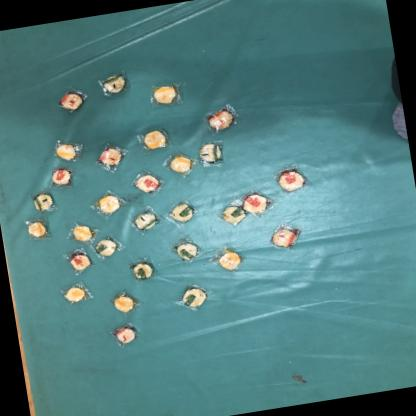green_setoshio: (168, 234, 204, 266), (97, 69, 133, 100), (176, 283, 212, 314), (127, 206, 164, 235), (166, 196, 198, 228), (212, 201, 247, 229), (126, 255, 158, 284), (88, 236, 123, 262), (198, 139, 226, 168), (28, 191, 56, 214)
red_setoshio: (202, 100, 244, 136), (264, 221, 304, 254), (272, 165, 310, 196), (240, 187, 277, 218), (93, 140, 127, 172), (61, 245, 93, 277), (130, 168, 164, 198), (54, 87, 88, 115), (107, 322, 139, 349), (46, 166, 76, 190)
yellow_setoshio: (87, 186, 129, 221), (144, 77, 187, 109), (211, 242, 249, 274), (106, 286, 142, 318), (164, 149, 200, 180), (136, 124, 174, 152), (49, 137, 83, 166), (58, 280, 92, 308), (20, 216, 52, 240), (64, 221, 96, 244)
